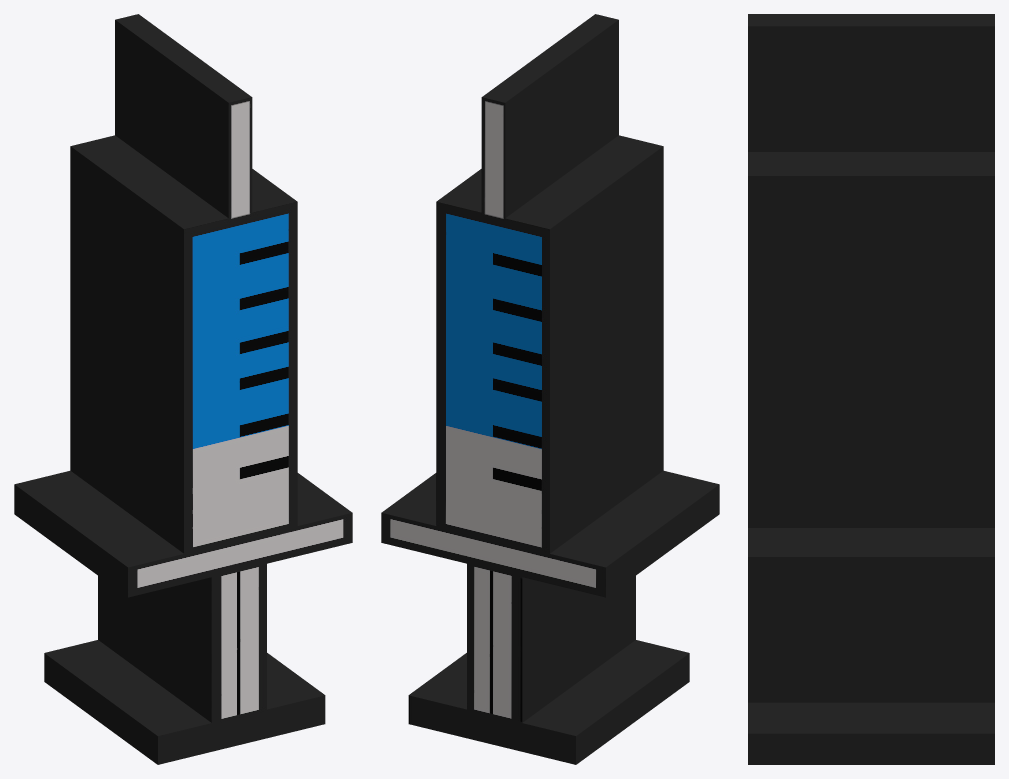
File: Anabolizante.FBX
3 views of the same model, side by side, from view 1: azimuth 30°, elevation 25°; view 2: azimuth 150°, elevation 25°; view 3: azimuth 270°, elevation 25° (orthographic). The views are drawn at different scales.
Parts seen in each view (by area): view 1: anabolizante; view 2: anabolizante; view 3: anabolizante.
Boxes of the visible parts, left/top/right/bottom form: anabolizante: left=14, top=14, right=352, bottom=764; anabolizante: left=381, top=14, right=719, bottom=764; anabolizante: left=748, top=14, right=994, bottom=764.
Size of the model in its own units: 800 by 2195 by 702.
1 material, 1 textured.
